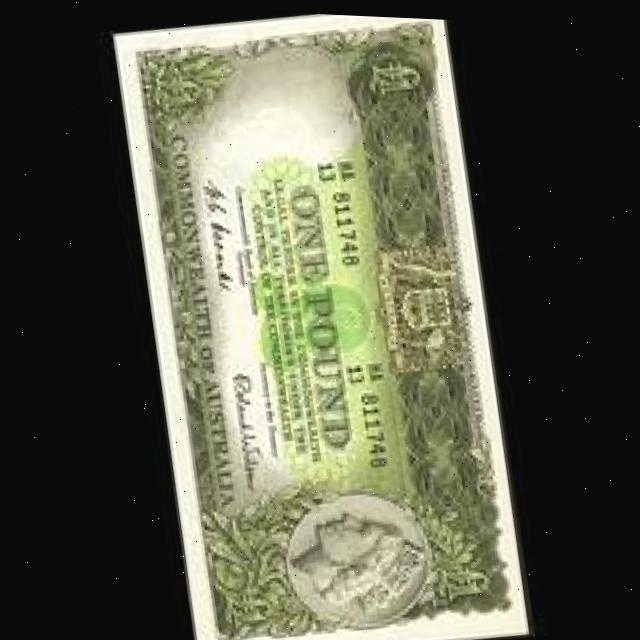banknote: (111, 4, 536, 640)
